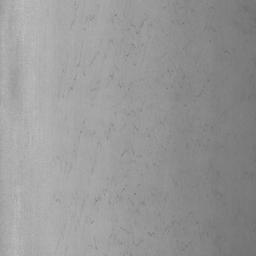Silk spot: (56, 1, 216, 173), (54, 150, 232, 256), (162, 47, 210, 107), (163, 2, 194, 36), (235, 6, 256, 41), (245, 146, 256, 179), (248, 59, 256, 99)
